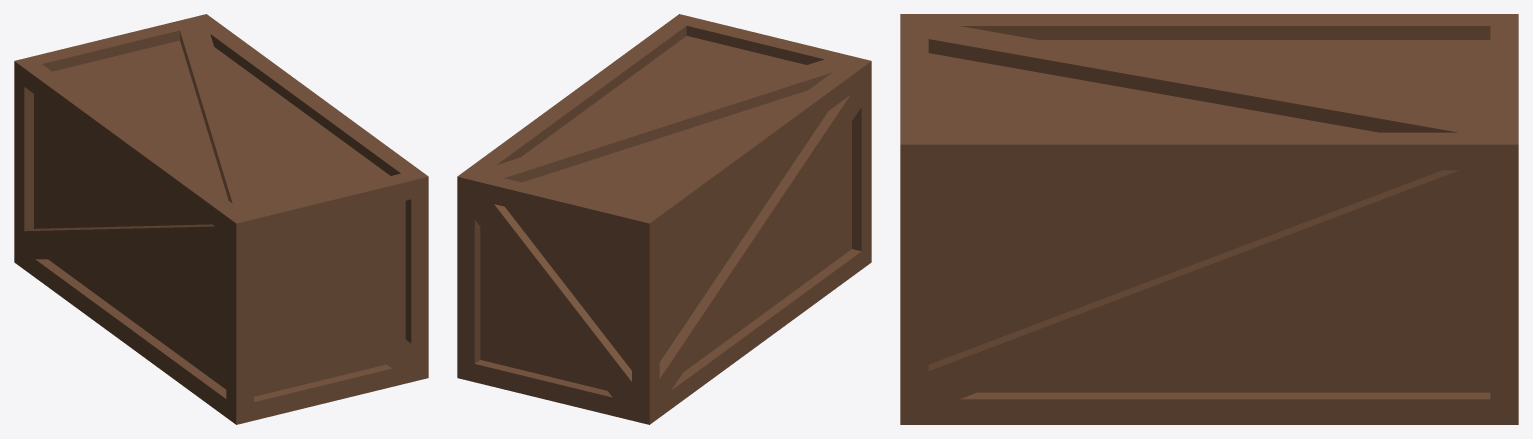
File: wood1.fbx
The picture shows the model from 3 angles, left to right: view 1: azimuth 30°, elevation 25°; view 2: azimuth 150°, elevation 25°; view 3: azimuth 270°, elevation 25°; orthographic projection. The views are drawn at different scales.
Visible parts, largest first — view 1: SM_WoodBox_3; view 2: SM_WoodBox_3; view 3: SM_WoodBox_3.
Part boxes in pixels (<box>): SM_WoodBox_3: <box>14,14,428,424</box>; SM_WoodBox_3: <box>457,14,871,424</box>; SM_WoodBox_3: <box>900,14,1518,424</box>.
Size of the model in its own units: 103 by 103 by 205.
